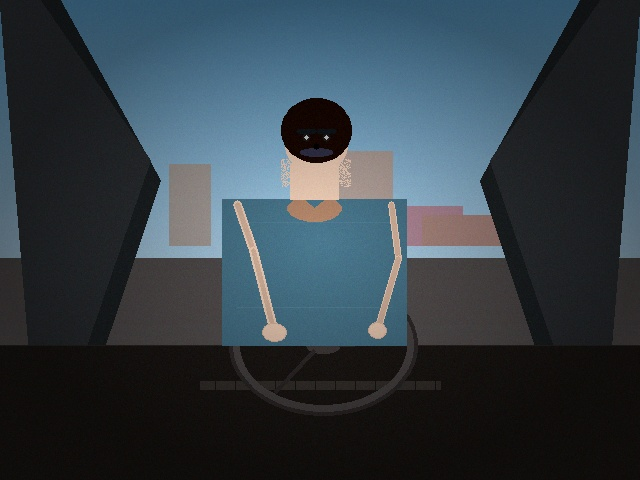normal_driving: (105, 185, 323, 345)
